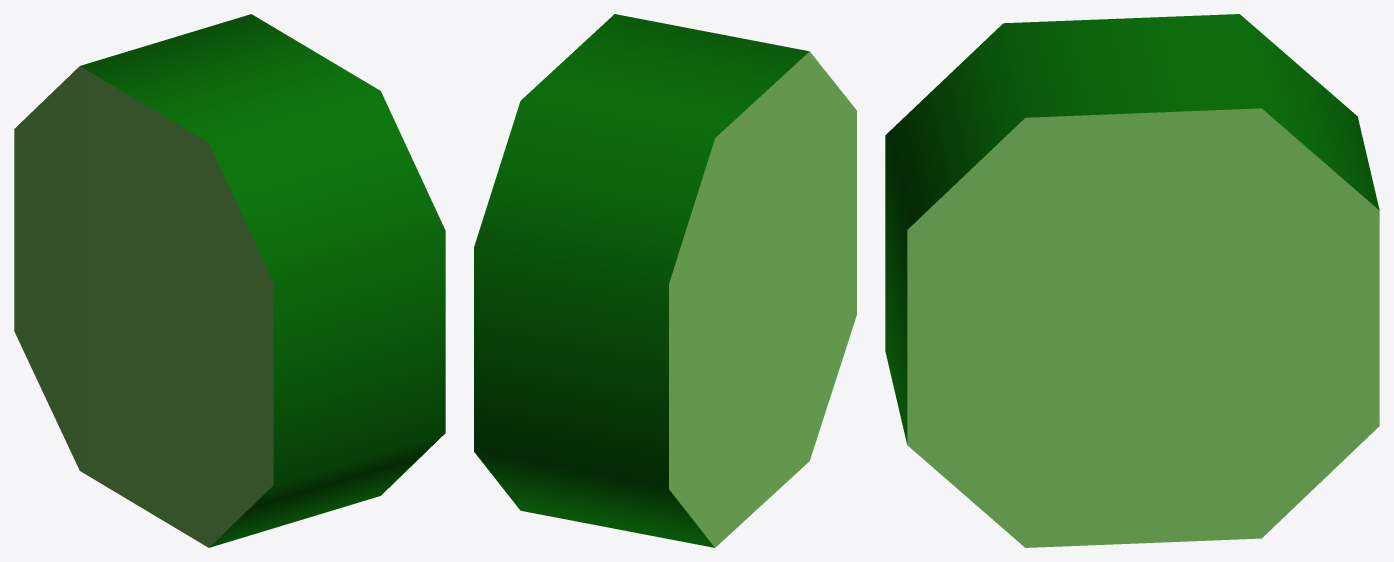
File: mesh_CucumberSlice_Stage05.fbx
The picture shows the model from 3 angles, left to right: view 1: azimuth 30°, elevation 25°; view 2: azimuth 150°, elevation 25°; view 3: azimuth 270°, elevation 25°; orthographic projection. The views are drawn at different scales.
Visible parts, largest first — view 1: mesh_CucumberSlice_Stage05; view 2: mesh_CucumberSlice_Stage05; view 3: mesh_CucumberSlice_Stage05.
Boxes of the visible parts, x1=… form: mesh_CucumberSlice_Stage05: x1=14, y1=14, x2=445, y2=547; mesh_CucumberSlice_Stage05: x1=474, y1=14, x2=856, y2=547; mesh_CucumberSlice_Stage05: x1=885, y1=14, x2=1379, y2=547.
Bounding box in the file's own units: 0.0208 × 0.0367 × 0.0382.
